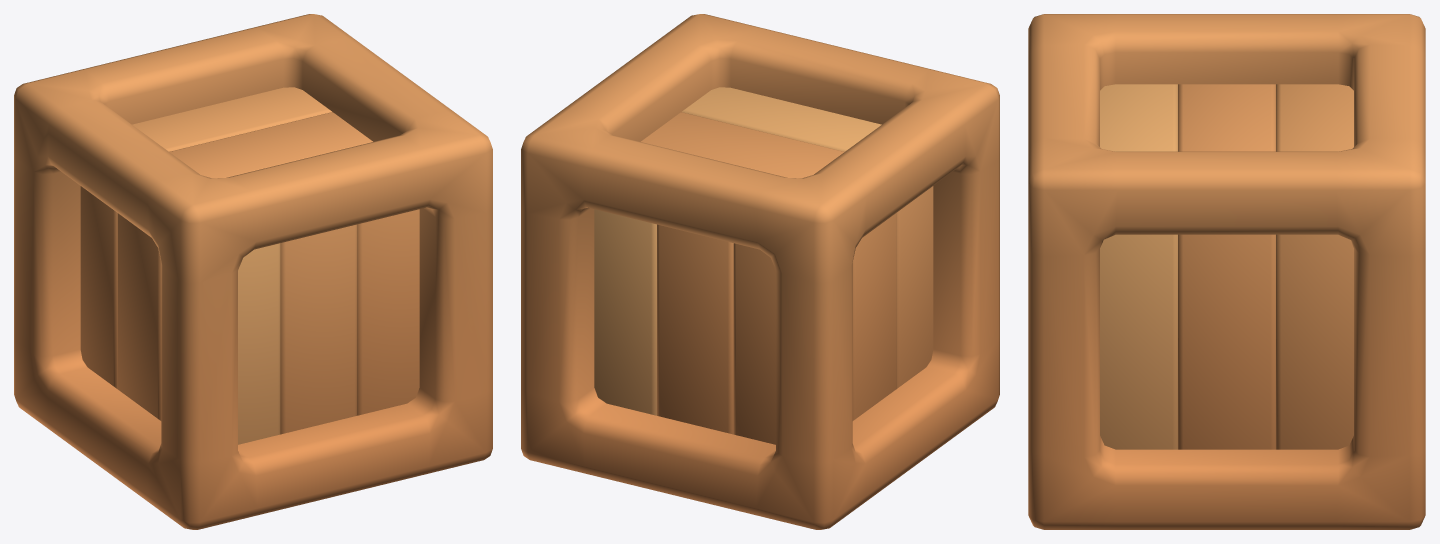
The model's file is crate.fbx.
3 views of the same model, side by side, from view 1: azimuth 30°, elevation 25°; view 2: azimuth 150°, elevation 25°; view 3: azimuth 270°, elevation 25° (orthographic). The views are drawn at different scales.
Parts seen in each view (by area): view 1: crate; view 2: crate; view 3: crate.
Boxes of the visible parts, x1,y1,x2,y2 form: crate: (14, 14, 492, 529); crate: (521, 14, 999, 529); crate: (1028, 14, 1425, 529).
Bounding box in the file's own units: 1 × 1 × 1.
1 material, 1 textured.
